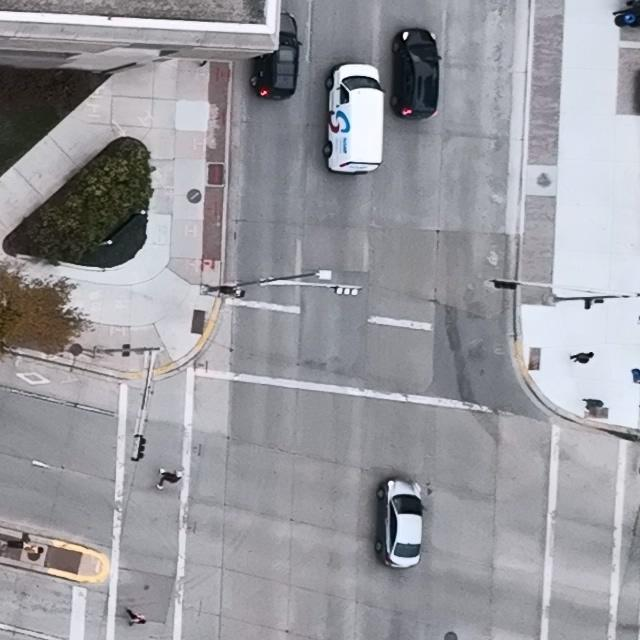car: (322, 63, 387, 175), (390, 29, 442, 121), (250, 12, 303, 100), (375, 478, 425, 569)
